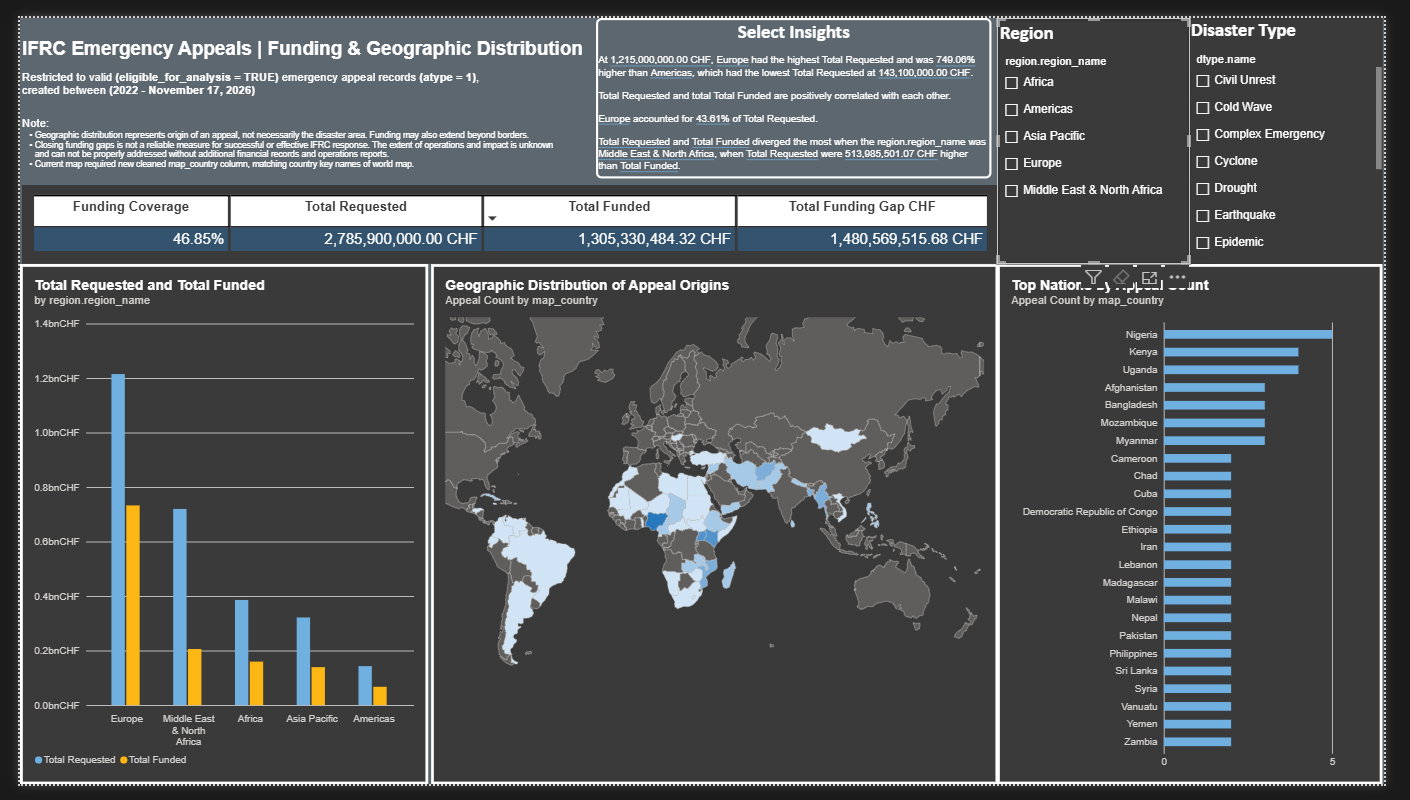

This screenshot's page, from the dashboard's own definition file:
{"tool":"powerbi","page":{"name":"final_appeals_report","canvas":[1920,1080],"ordinal":0},"visuals":[{"type":"clusteredColumnChart","fields":{"Category":["final_appeals_report.region.region_name"],"Y":["final_appeals_report.Total Requested","final_appeals_report.Total Funded"]},"box":[0,346.7,575,733.3],"z":0},{"type":"slicer","title":"Disaster Type","fields":{"Values":["final_appeals_report.dtype.name"]},"box":[1648.6,0,271.4,347.1],"z":1000},{"type":"textbox","box":[3.3,28.3,809.2,121.7],"z":2000},{"type":"shapeMap","title":"Geographic Distribution of Appeal Origins","fields":{"Category":["final_appeals_report.map_country"],"Value":["final_appeals_report.Appeal Count"]},"box":[578.6,347.1,798.6,732.9],"z":3000},{"type":"clusteredBarChart","title":"Top Nations by Appeal Count","fields":{"Category":["final_appeals_report.map_country"],"Y":["final_appeals_report.Appeal Count"]},"box":[1376.7,346.7,543.3,733.3],"z":4000},{"type":"tableEx","fields":{"Values":["final_appeals_report.Funding Coverage","final_appeals_report.Total Requested","final_appeals_report.Total Funded","final_appeals_report.Total Funding Gap CHF"]},"box":[2.9,235.7,1377.1,111.4],"z":5000},{"type":"slicer","title":"Region","fields":{"Values":["final_appeals_report.region.region_name"]},"box":[1376.7,0,271.7,346.7],"z":6000},{"type":"textbox","box":[811.4,0,557.1,225.7],"z":7000},{"type":"textbox","box":[3,139,763,97],"z":7001}]}

Visuals, with their boxes in screenshot pixels (x1, y1, x2, y2), scaled from the page's 1920x1080 canvas onto the 1410x800 screenshot:
clusteredColumnChart - final_appeals_report.region.region_name x final_appeals_report.Total Requested: x1=0, y1=257, x2=422, y2=799
"Disaster Type" slicer: x1=1211, y1=0, x2=1409, y2=257
textbox: x1=2, y1=21, x2=597, y2=111
"Geographic Distribution of Appeal Origins" shapeMap: x1=425, y1=257, x2=1011, y2=799
"Top Nations by Appeal Count" clusteredBarChart: x1=1011, y1=257, x2=1409, y2=799
tableEx - final_appeals_report.Funding Coverage x final_appeals_report.Total Requested: x1=2, y1=175, x2=1013, y2=257
"Region" slicer: x1=1011, y1=0, x2=1211, y2=257
textbox: x1=596, y1=0, x2=1005, y2=167
textbox: x1=2, y1=103, x2=563, y2=175
